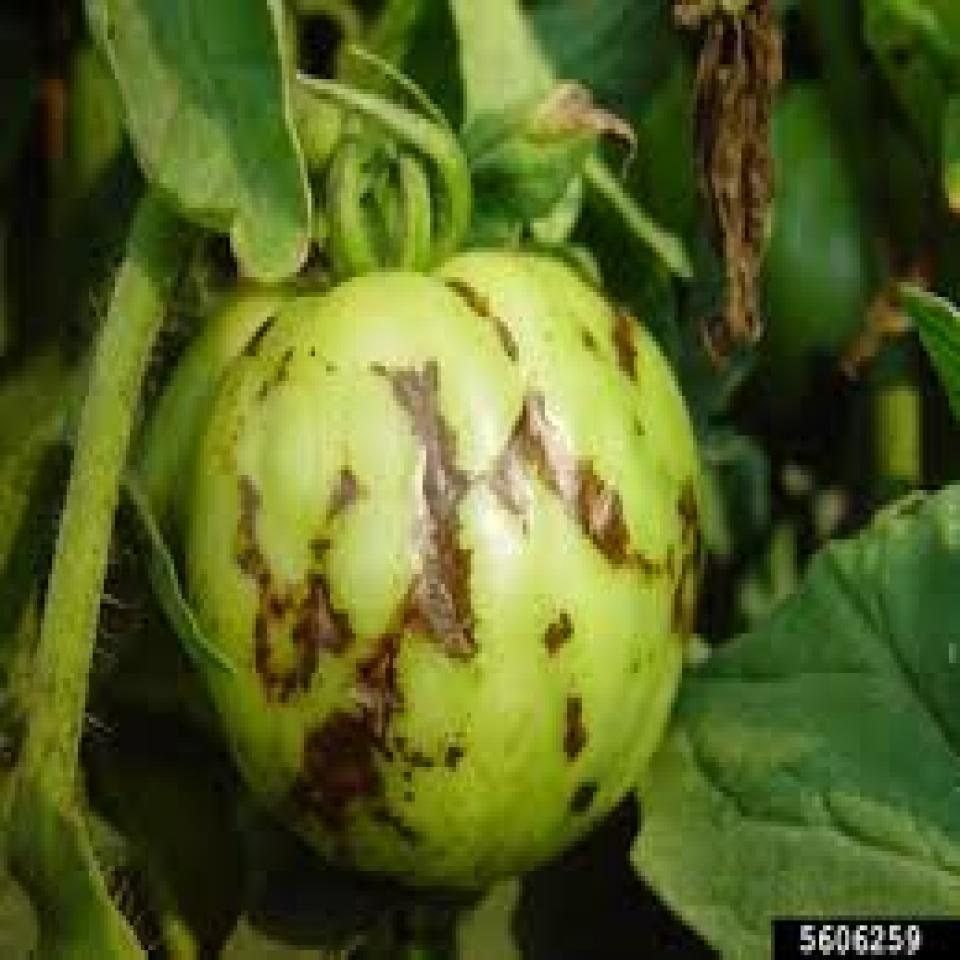Spotted wilt Virus: (133, 248, 709, 886)
